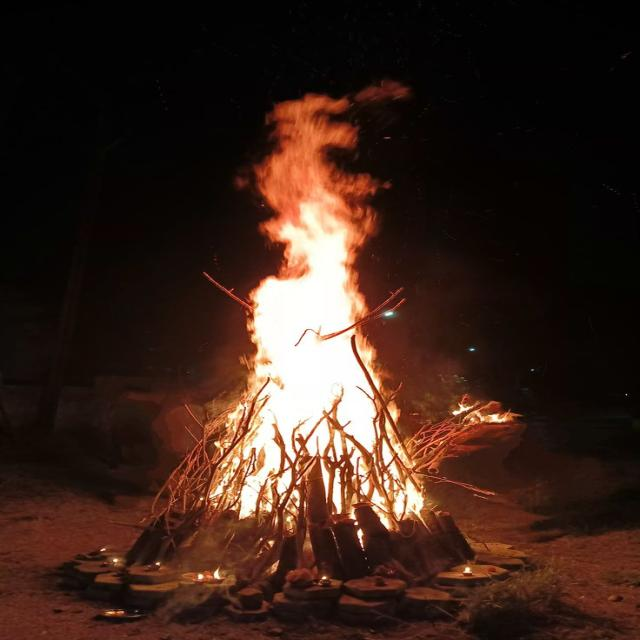fire: (198, 95, 429, 525)
